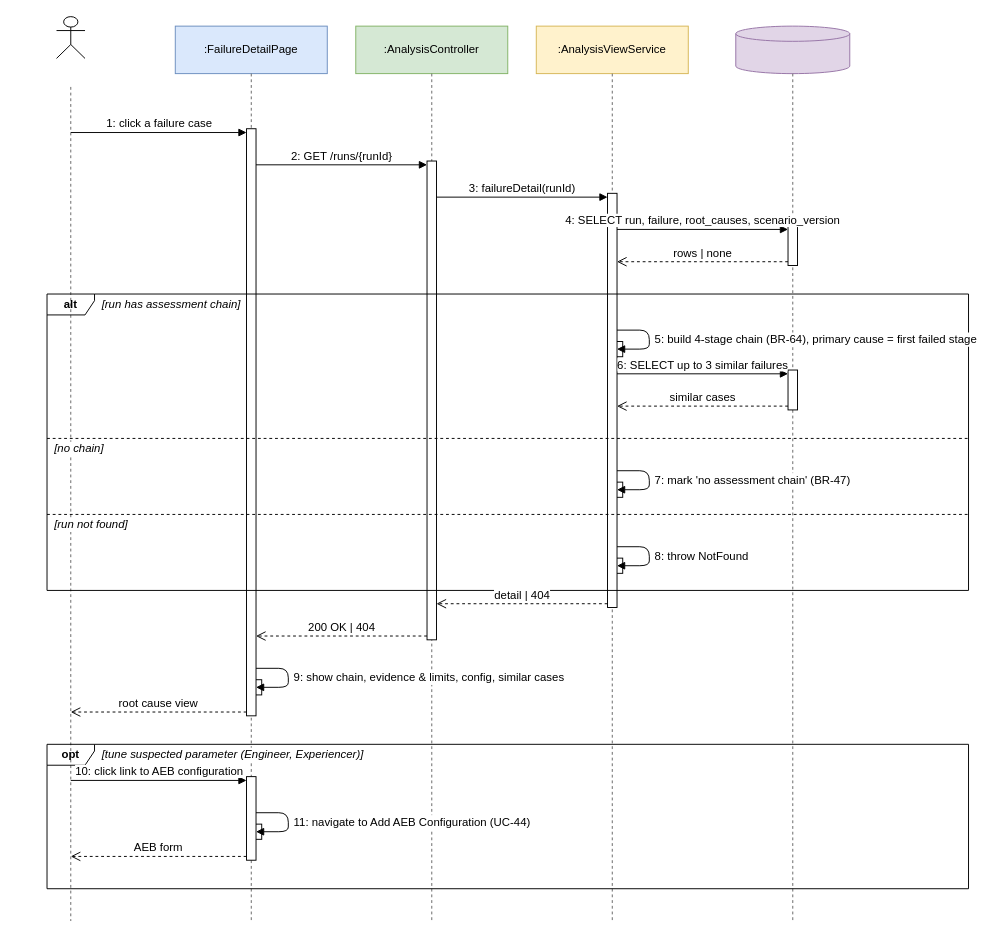
The diagram is 994 pixels wide and 939 high, and some of its shapes have lost their labels. Here are the shapes that lost their labels. From the top down, the box of each, then its label:
(56, 16, 85, 58): Engineer / Reviewer / Experiencer
(735, 25, 850, 74): MySQL
